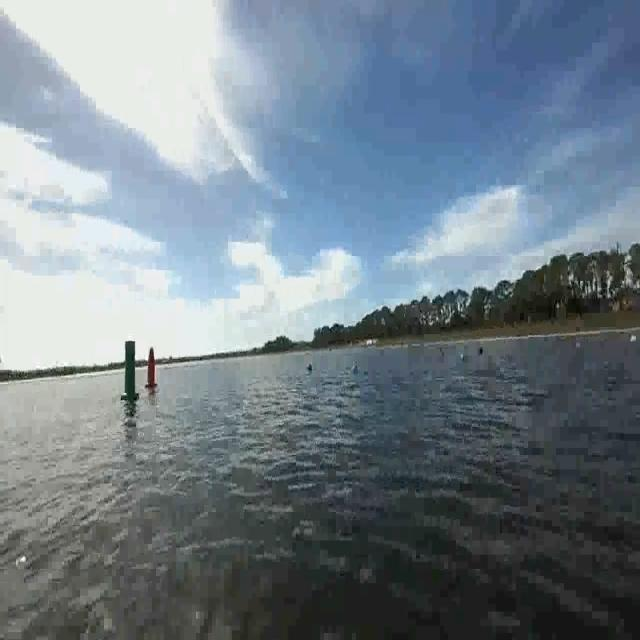black-buoy: (479, 346, 485, 356)
green-column-buoy: (119, 338, 139, 402)
red-column-buoy: (143, 346, 158, 390)
